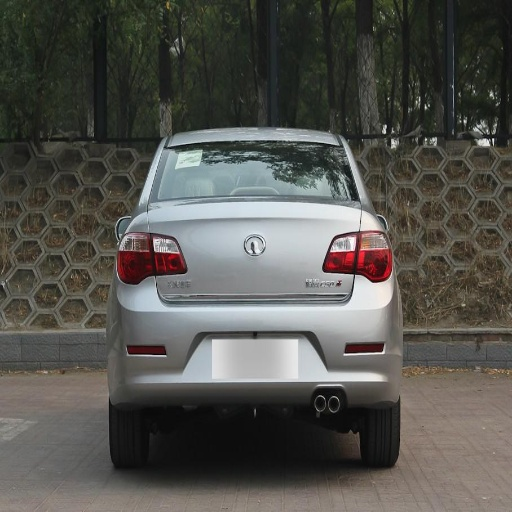back_bumper: (111, 274, 404, 406)
trunk: (146, 201, 360, 305)
